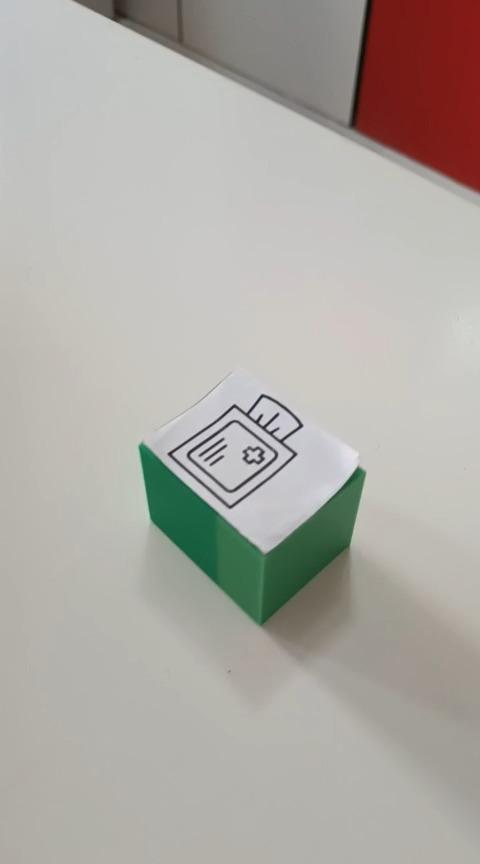Gauze: (137, 367, 367, 626)
